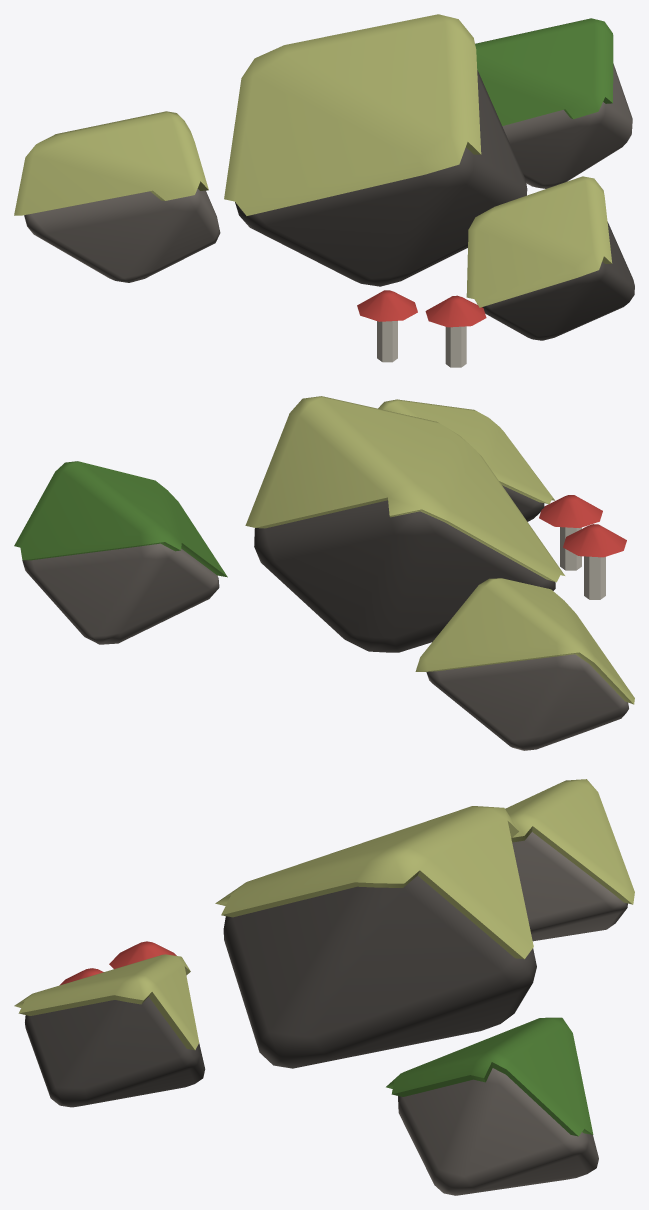
The model's file is rocher_foret_3.glb.
3 renders of one model, top to bottom at view 1: azimuth 30°, elevation 25°; view 2: azimuth 150°, elevation 25°; view 3: azimuth 270°, elevation 25°, orthographic. The views are drawn at different scales.
Parts seen in each view (by area): view 1: mousse_lichen.002, roche_pierre_sombre.010, roche_pierre.012, mousse_mousse.006, champignons_ecorce_claire.002, chapeau_-0.004, chapeau_-0.005; view 2: mousse_lichen.002, roche_pierre_sombre.010, roche_pierre.012, mousse_mousse.006, champignons_ecorce_claire.002, chapeau_-0.004, chapeau_-0.005; view 3: roche_pierre_sombre.010, mousse_lichen.002, roche_pierre.012, mousse_mousse.006, chapeau_-0.004.
Boxes of the visible parts, left/top/right/bottom form: mousse_lichen.002: left=14, top=14, right=612, bottom=307; roche_pierre_sombre.010: left=235, top=70, right=634, bottom=340; roche_pierre.012: left=24, top=63, right=632, bottom=282; mousse_mousse.006: left=475, top=18, right=613, bottom=125; champignons_ecorce_claire.002: left=377, top=321, right=466, bottom=367; chapeau_-0.004: left=357, top=290, right=417, bottom=321; chapeau_-0.005: left=425, top=295, right=486, bottom=327; mousse_lichen.002: left=245, top=396, right=634, bottom=704; roche_pierre_sombre.010: left=254, top=485, right=555, bottom=652; roche_pierre.012: left=22, top=543, right=628, bottom=750; mousse_mousse.006: left=14, top=461, right=227, bottom=577; champignons_ecorce_claire.002: left=560, top=527, right=605, bottom=599; chapeau_-0.004: left=563, top=524, right=626, bottom=557; chapeau_-0.005: left=539, top=495, right=602, bottom=527; roche_pierre_sombre.010: left=25, top=875, right=536, bottom=1107; mousse_lichen.002: left=14, top=779, right=634, bottom=1050; roche_pierre.012: left=398, top=832, right=627, bottom=1195; mousse_mousse.006: left=386, top=1017, right=593, bottom=1136; chapeau_-0.004: left=109, top=941, right=176, bottom=968.
Bounding box in the file's own units: 0.9518 × 0.3524 × 0.7356.
